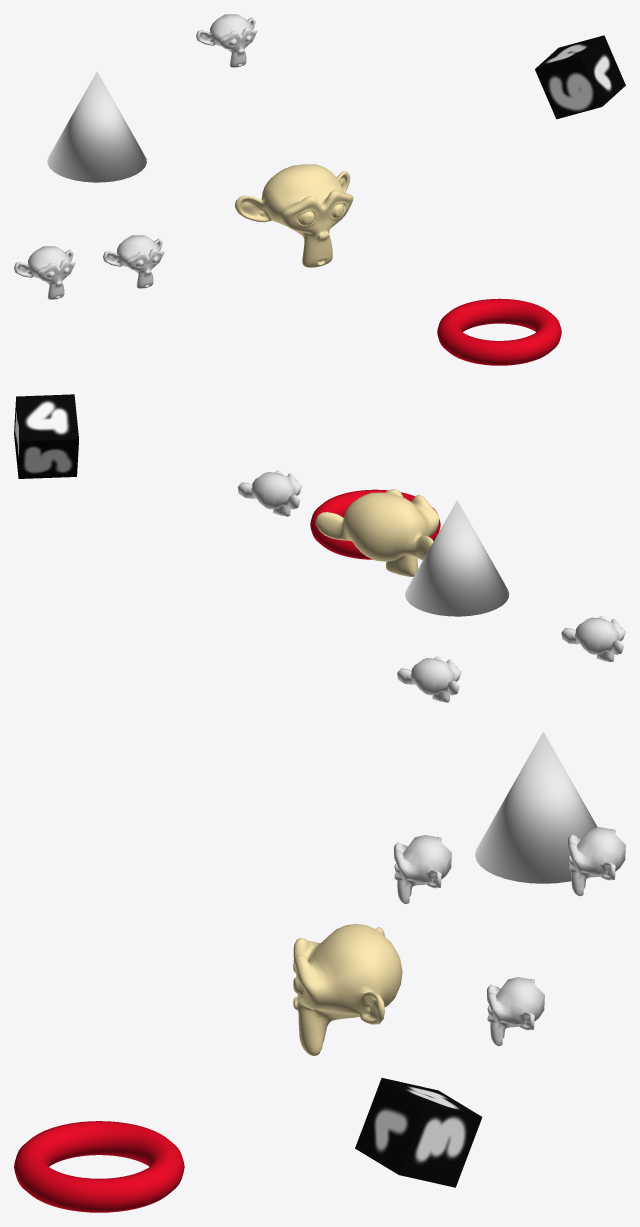
3 renders of one model, top to bottom at view 1: azimuth 30°, elevation 25°; view 2: azimuth 150°, elevation 25°; view 3: azimuth 270°, elevation 25°, orthographic. The views are drawn at different scales.
Parts seen in each view (by area): view 1: Suzanne, Cone, Torus, Cube, Suzanne.003, Suzanne.001, Suzanne.002; view 2: Cone, Suzanne, Cube, Suzanne.003, Suzanne.002, Suzanne.001, Torus; view 3: Torus, Cone, Suzanne, Cube, Suzanne.001, Suzanne.002, Suzanne.003.
Boxes of the visible parts, x1,y1,x2,y2 form: Suzanne: (235, 164, 353, 267); Cone: (47, 71, 146, 182); Torus: (437, 298, 561, 365); Cube: (535, 35, 625, 119); Suzanne.003: (103, 235, 164, 288); Suzanne.001: (14, 246, 75, 299); Suzanne.002: (196, 14, 257, 67); Cone: (405, 500, 509, 616); Suzanne: (315, 489, 439, 576); Cube: (14, 394, 78, 478); Suzanne.003: (397, 656, 461, 702); Suzanne.002: (237, 470, 302, 516); Suzanne.001: (561, 616, 625, 661); Torus: (310, 489, 440, 559); Torus: (14, 1121, 184, 1212); Cone: (475, 731, 597, 883); Suzanne: (293, 924, 402, 1055); Cube: (355, 1078, 482, 1187); Suzanne.001: (394, 835, 451, 903); Suzanne.002: (568, 827, 625, 896); Suzanne.003: (487, 977, 544, 1046).
Size of what is drawn, in the model's own units: 13.82 by 4.74 by 8.97.
4 materials, 1 textured.
